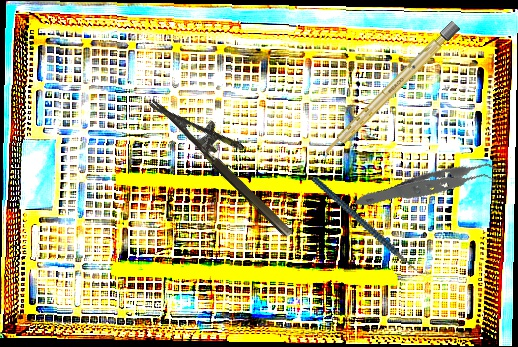Chopper: (311, 150, 433, 302)
Needle Holder: (148, 77, 311, 240)
Scalpel Handle: (319, 20, 461, 162)
Tissue Forceps: (354, 128, 511, 248)
